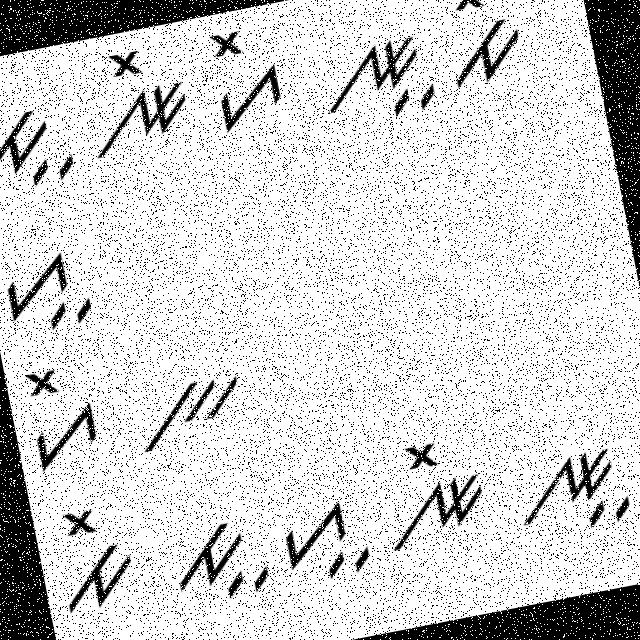hah: (0, 232, 105, 348), (276, 488, 376, 588)
ho: (18, 354, 113, 481), (196, 19, 293, 138)
mbah: (154, 498, 280, 616), (0, 85, 85, 206)
mbo: (43, 497, 149, 622), (435, 0, 536, 94)
ndah: (306, 12, 448, 136), (504, 423, 639, 546)
ndo: (372, 420, 502, 562), (80, 32, 202, 165)
